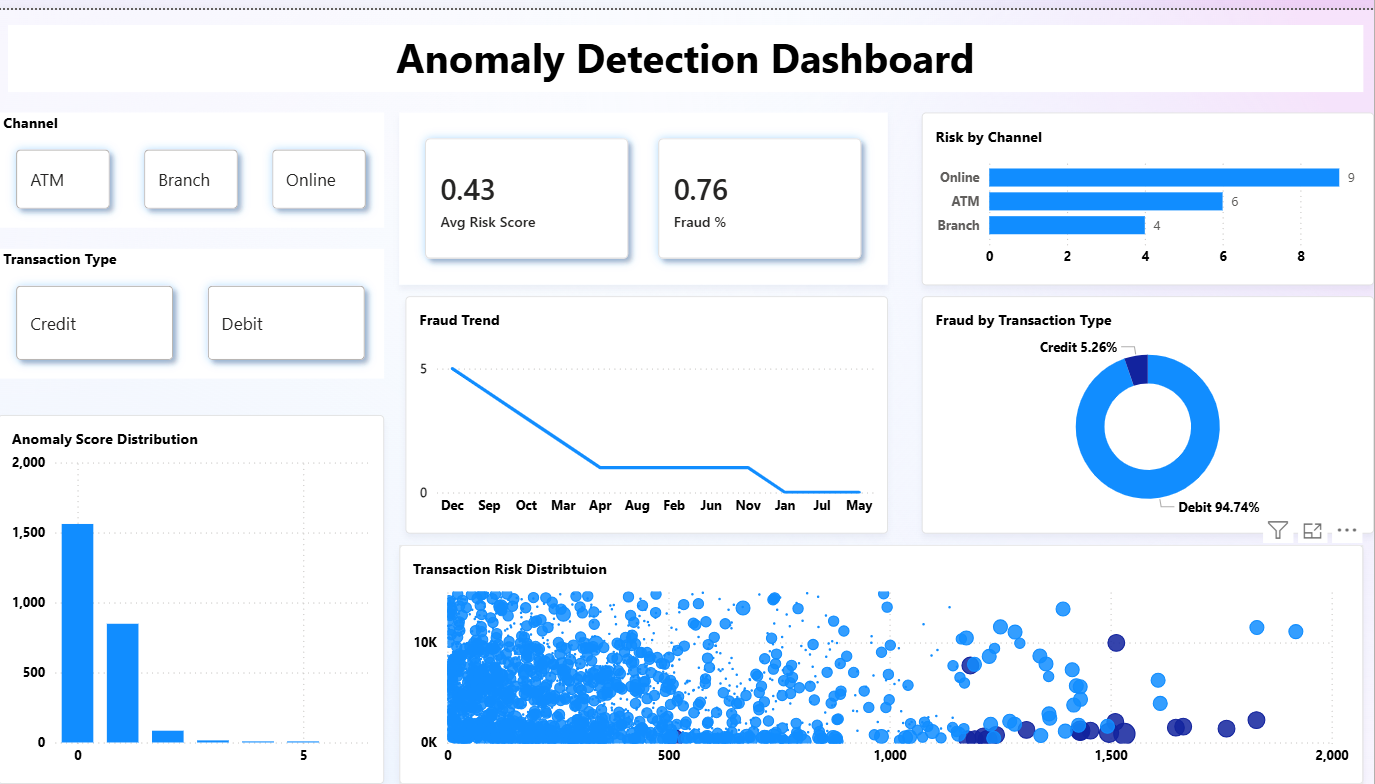

The page's visual inventory and layout, read from the dashboard file:
{"tool":"powerbi","page":{"name":"Anomaly Detection Dashboard","canvas":[1280,720],"ordinal":0},"visuals":[{"type":"textbox","box":[9.3,14,1260.5,62.8],"z":0},{"type":"cardVisual","fields":{"Data":["anomaly_detection transactions.Avg Risk Score","anomaly_detection transactions.Fraud %"]},"box":[373.3,95.3,454.7,160.5],"z":1000},{"type":"shape","box":[0,0,1280.2,87.2],"z":2000},{"type":"advancedSlicerVisual","title":"Transaction Type","fields":{"Values":["anomaly_detection transactions.transaction_type"]},"box":[0,222.1,359.3,120.9],"z":3000},{"type":"advancedSlicerVisual","title":"Channel","fields":{"Values":["anomaly_detection transactions.channel"]},"box":[0,95.3,359.3,107],"z":4000},{"type":"lineChart","title":"Fraud Trend","fields":{"Y":["anomaly_detection transactions.Total fraud"],"Category":["anomaly_detection transactions.Month"]},"box":[379.1,266.3,448.8,220.9],"z":5000},{"type":"clusteredBarChart","title":"Risk by Channel","fields":{"Category":["anomaly_detection transactions.channel"],"Y":["anomaly_detection transactions.Total fraud"]},"box":[859.3,95.3,420.9,160.5],"z":6000},{"type":"donutChart","title":"Fraud by Transaction Type","fields":{"Category":["anomaly_detection transactions.transaction_type"],"Y":["Sum(anomaly_detection transactions.final_flag)"]},"box":[859.3,266.3,420.9,220.9],"z":7000},{"type":"clusteredColumnChart","title":"Anomaly Score Distribution","fields":{"Category":["anomaly_detection transactions.anomaly_score"],"Y":["CountNonNull(anomaly_detection transactions.transaction_id)"]},"box":[0,376.7,359.3,343],"z":8000},{"type":"scatterChart","title":"Transaction Risk Distribtuion","fields":{"X":["Sum(anomaly_detection transactions.transaction_amount)"],"Y":["Sum(anomaly_detection transactions.account_balance)"],"Size":["Sum(anomaly_detection transactions.anomaly_score)"],"Category":["anomaly_detection transactions.transaction_id"],"Series":["anomaly_detection transactions.final_flag"]},"box":[373.3,497.7,896.5,222.1],"z":9000}]}

Visuals, with their boxes in screenshot pixels (x1, y1, x2, y2), scaled from the page's 1280x720 canvas onto the 1375x784 screenshot:
textbox: (10, 15, 1364, 84)
cardVisual - anomaly_detection transactions.Avg Risk Score x anomaly_detection transactions.Fraud %: (401, 104, 889, 279)
shape: (0, 0, 1374, 95)
"Transaction Type" advancedSlicerVisual: (0, 242, 386, 373)
"Channel" advancedSlicerVisual: (0, 104, 386, 220)
"Fraud Trend" lineChart: (407, 290, 889, 531)
"Risk by Channel" clusteredBarChart: (923, 104, 1374, 279)
"Fraud by Transaction Type" donutChart: (923, 290, 1374, 531)
"Anomaly Score Distribution" clusteredColumnChart: (0, 410, 386, 783)
"Transaction Risk Distribtuion" scatterChart: (401, 542, 1364, 783)
